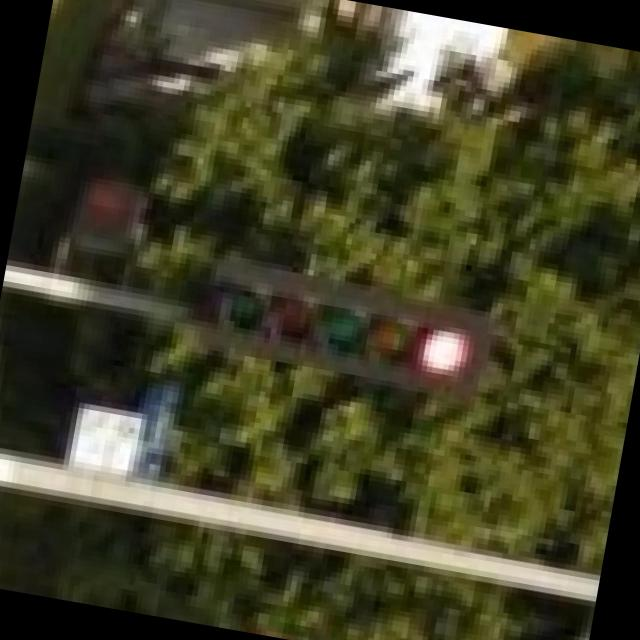red-lights: (393, 292, 505, 399)
